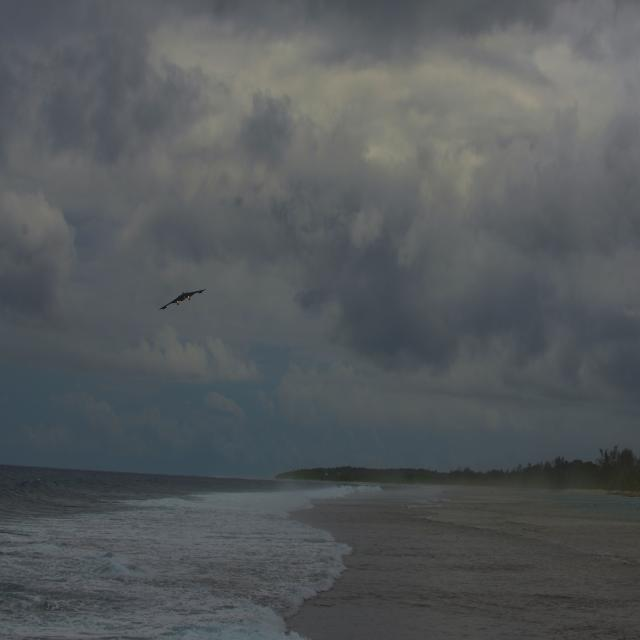MIL_Plane: (158, 296, 206, 303)
